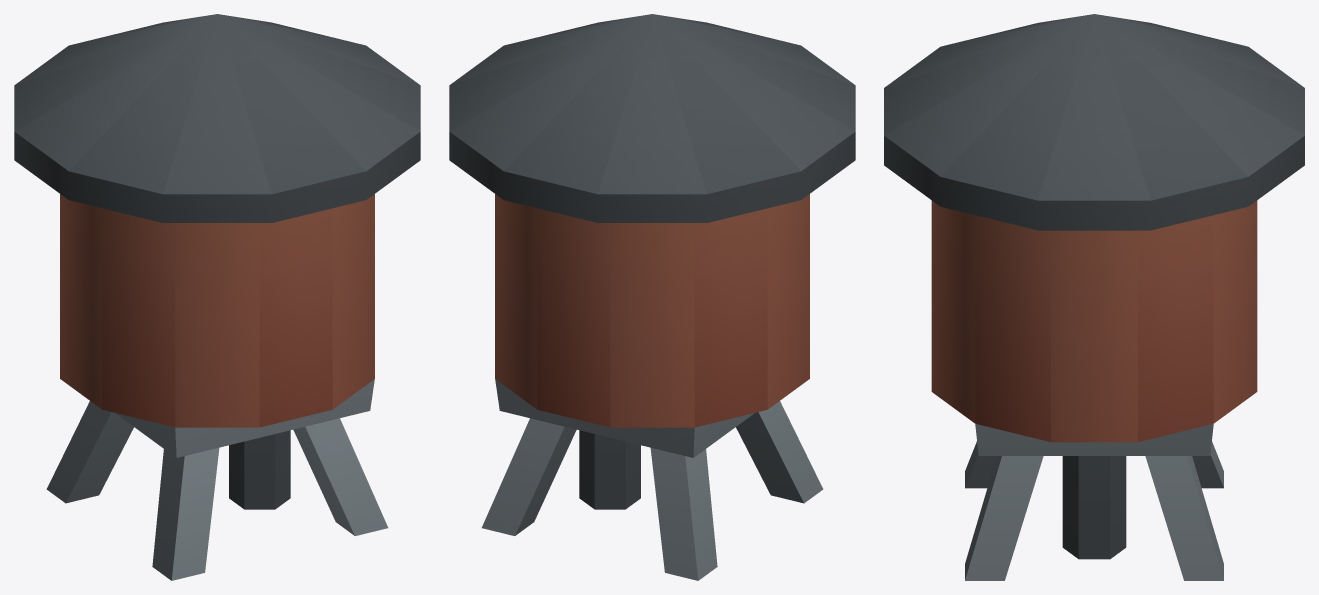
File: watertower.glb
3 views of the same model, side by side, from view 1: azimuth 30°, elevation 25°; view 2: azimuth 150°, elevation 25°; view 3: azimuth 270°, elevation 25° (orthographic). The views are drawn at different scales.
Visible parts, largest first — view 1: watertower; view 2: watertower; view 3: watertower.
Boxes of the visible parts, bbox=[...] form: watertower: bbox=[14, 14, 420, 580]; watertower: bbox=[449, 14, 855, 580]; watertower: bbox=[884, 14, 1304, 580].
Size of the model in its own units: 0.4989 by 0.67 by 0.4989.
1 material, 1 textured.
